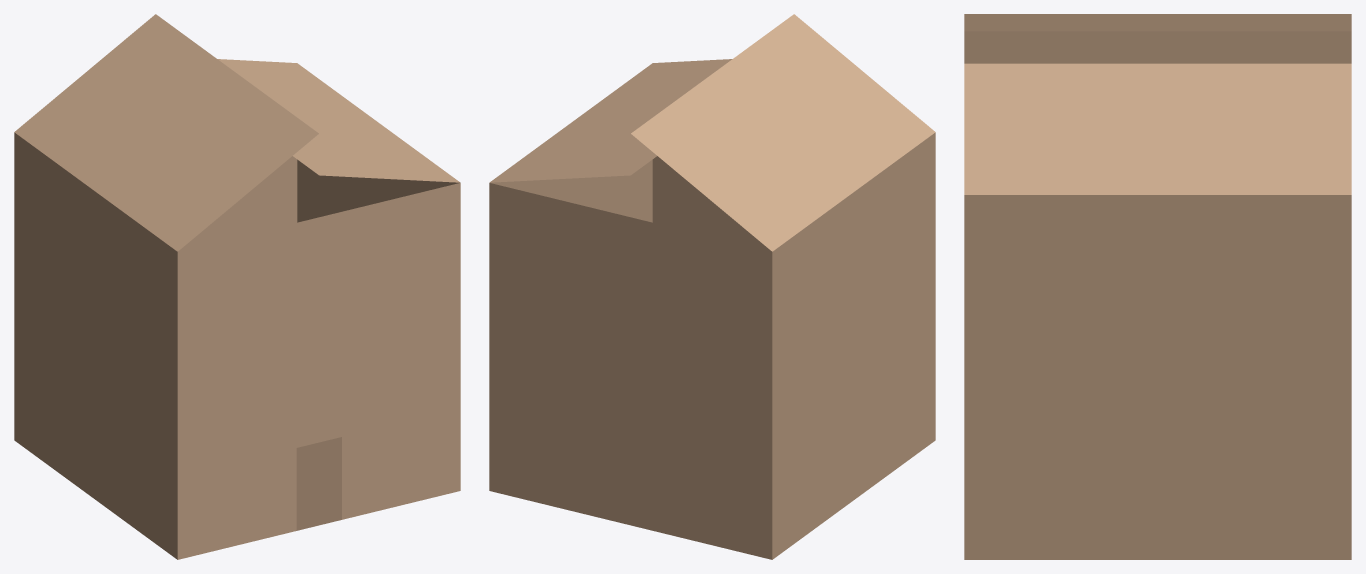
The model's file is cardboardBoxClosed.glb.
3 views of the same model, side by side, from view 1: azimuth 30°, elevation 25°; view 2: azimuth 150°, elevation 25°; view 3: azimuth 270°, elevation 25° (orthographic). The views are drawn at different scales.
Visible parts, largest first — view 1: cardboardBoxClosed; view 2: cardboardBoxClosed; view 3: cardboardBoxClosed.
Part boxes in pixels (x1,y1,x2,y2): cardboardBoxClosed: [14, 14, 460, 559]; cardboardBoxClosed: [489, 14, 935, 559]; cardboardBoxClosed: [964, 14, 1351, 559].
Size of the model in its own units: 0.2125 by 0.281 by 0.2125.
